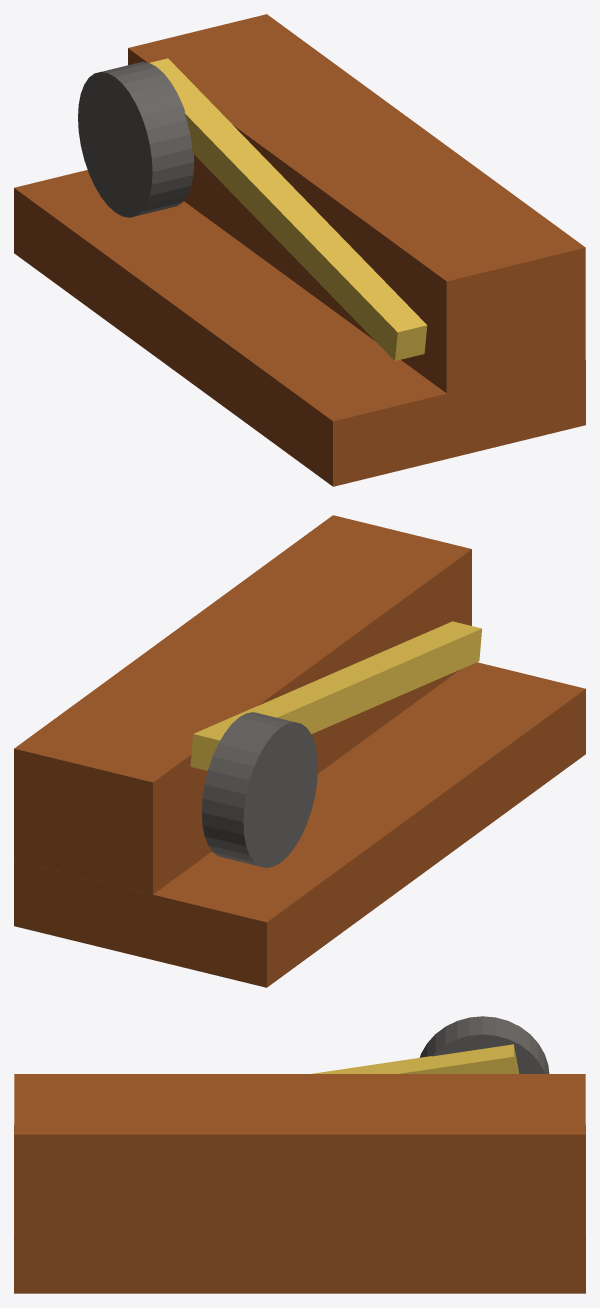
The model's file is woodcutter.fbx.
The picture shows the model from 3 angles, top to bottom: view 1: azimuth 30°, elevation 25°; view 2: azimuth 150°, elevation 25°; view 3: azimuth 270°, elevation 25°; orthographic projection. The views are drawn at different scales.
Parts seen in each view (by area): view 1: Cube, Cube.002, Cylinder; view 2: Cube, Cylinder, Cube.002; view 3: Cube, Cylinder, Cube.002.
Part boxes in pixels (<box>): Cube: <box>14,14,585,486</box>; Cube.002: <box>149,58,427,360</box>; Cylinder: <box>78,61,194,217</box>; Cube: <box>14,515,585,987</box>; Cylinder: <box>201,712,317,867</box>; Cube.002: <box>190,621,481,770</box>; Cube: <box>14,1074,585,1293</box>; Cylinder: <box>420,1016,549,1073</box>; Cube.002: <box>312,1044,518,1073</box>.
Size of the model in its own units: 809 by 634 by 1768.
